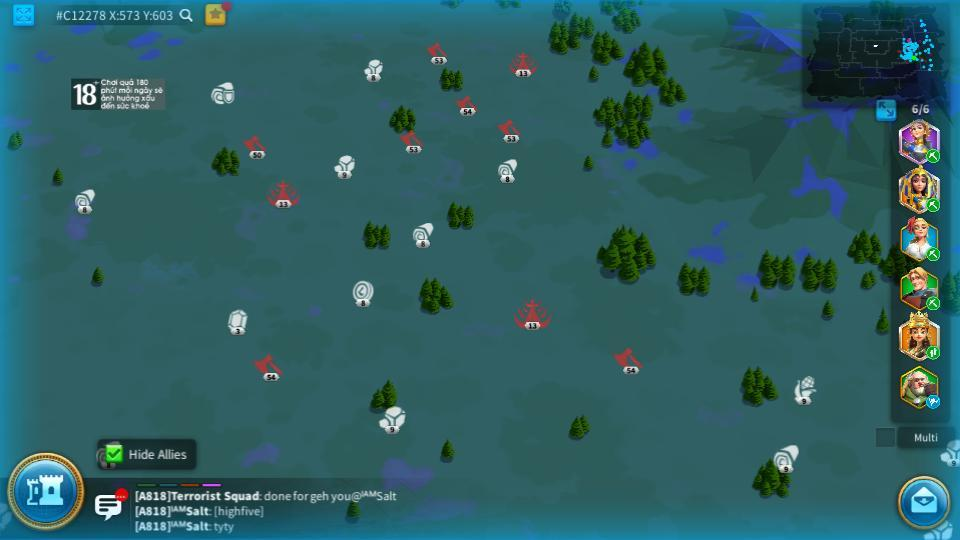gem-z-out: (227, 309, 248, 334)
march_farming: (923, 197, 940, 212), (925, 149, 941, 162)
march_idle: (925, 396, 942, 408)
march_marching: (925, 347, 941, 359)
